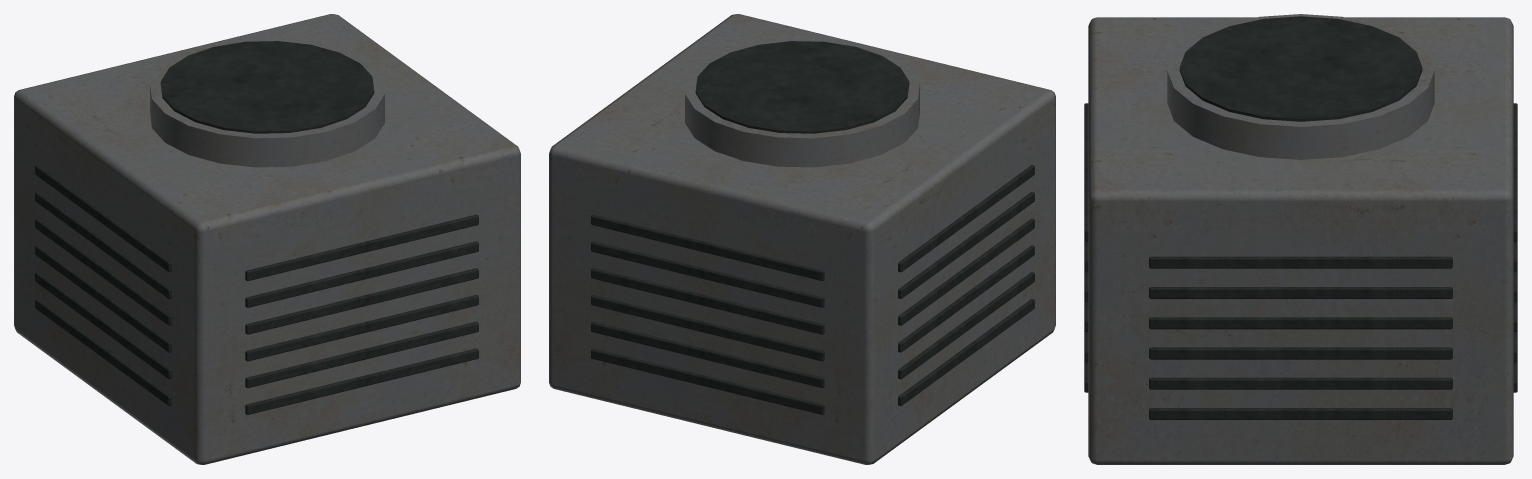
The model's file is roof_plant.glb.
The picture shows the model from 3 angles, left to right: view 1: azimuth 30°, elevation 25°; view 2: azimuth 150°, elevation 25°; view 3: azimuth 270°, elevation 25°; orthographic projection. The views are drawn at different scales.
Visible parts, largest first — view 1: prop; view 2: prop; view 3: prop.
Boxes of the visible parts, bbox=[...] form: prop: bbox=[14, 14, 520, 464]; prop: bbox=[549, 14, 1055, 464]; prop: bbox=[1084, 14, 1517, 464].
Bounding box in the file's own units: 0.714 × 0.565 × 0.714.
2 materials, 2 textured.
